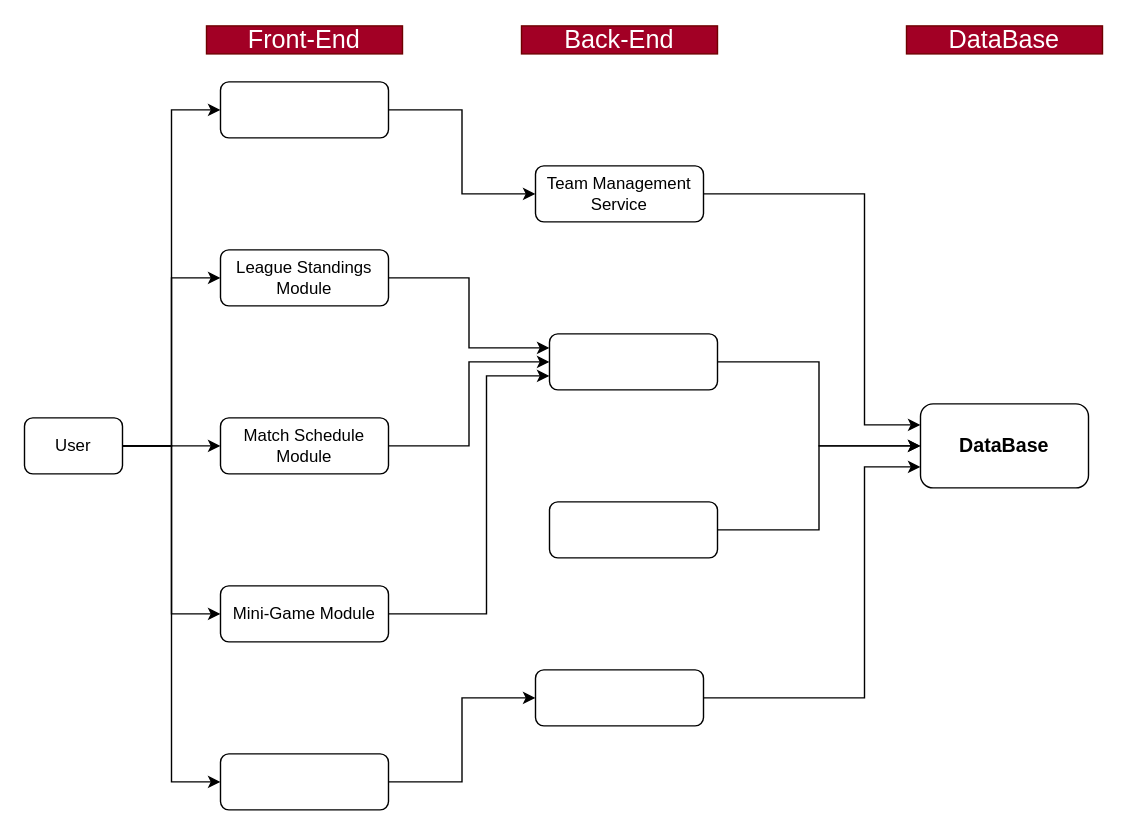
Image size: 1127x834. Some labels were removed from this diagram. The shapes that lost their labels are listed below. From the top down, each one's centre as x and y in pixels, then its label:
At [303,109]: "Team Management Module".
At [633,361]: "Match & Points Service".
At [633,529]: "Simulation Service".
At [619,697]: "Data Aggregation Service".
At [303,781]: "Statistics Module".
